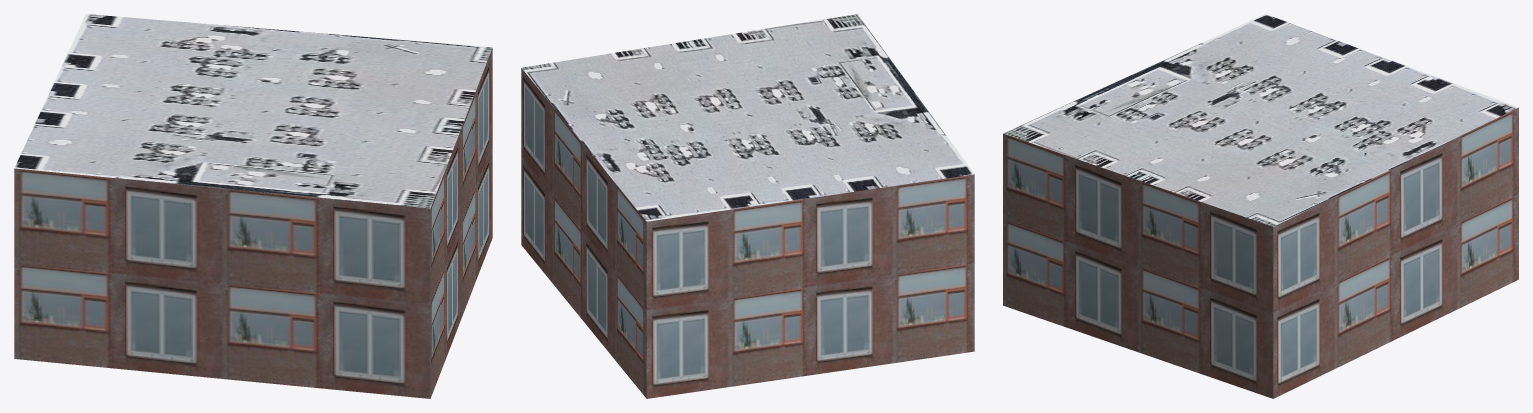
The model's file is ResTex__4811.fbx.
3 views of the same model, side by side, from view 1: azimuth 30°, elevation 25°; view 2: azimuth 150°, elevation 25°; view 3: azimuth 270°, elevation 25° (orthographic). The views are drawn at different scales.
Visible parts, largest first — view 1: CityEngineMaterial_19_m, CityEngineMaterial_m; view 2: CityEngineMaterial_19_m, CityEngineMaterial_m; view 3: CityEngineMaterial_19_m, CityEngineMaterial_m.
Part boxes in pixels (box(x1,y1,x2,y2)): CityEngineMaterial_19_m: box(14, 48, 492, 398); CityEngineMaterial_m: box(14, 14, 492, 208); CityEngineMaterial_19_m: box(521, 68, 974, 398); CityEngineMaterial_m: box(521, 14, 974, 221); CityEngineMaterial_19_m: box(1003, 107, 1518, 398); CityEngineMaterial_m: box(1003, 14, 1518, 226).
Size of the model in its own units: 15.92 by 6 by 16.3.
2 materials, 2 textured.
